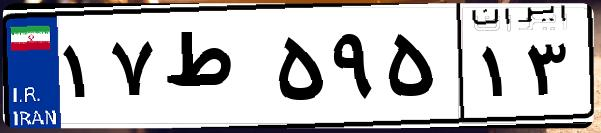1: (57, 26, 110, 100), (475, 38, 525, 113)
3: (525, 38, 570, 115)
5: (270, 28, 330, 110), (385, 28, 445, 110)
7: (110, 28, 158, 98)
9: (330, 28, 385, 110)
ط: (158, 20, 270, 120)
